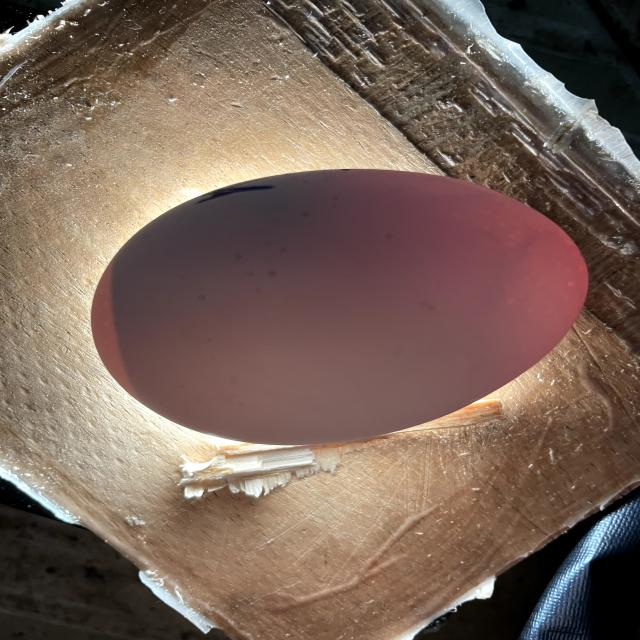fertile: (92, 169, 588, 445)
